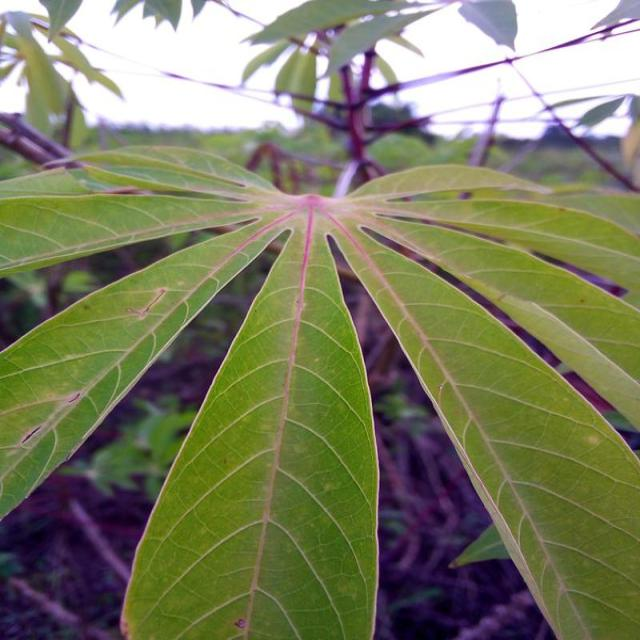cassava leaf: (0, 144, 638, 638), (119, 206, 380, 638)
